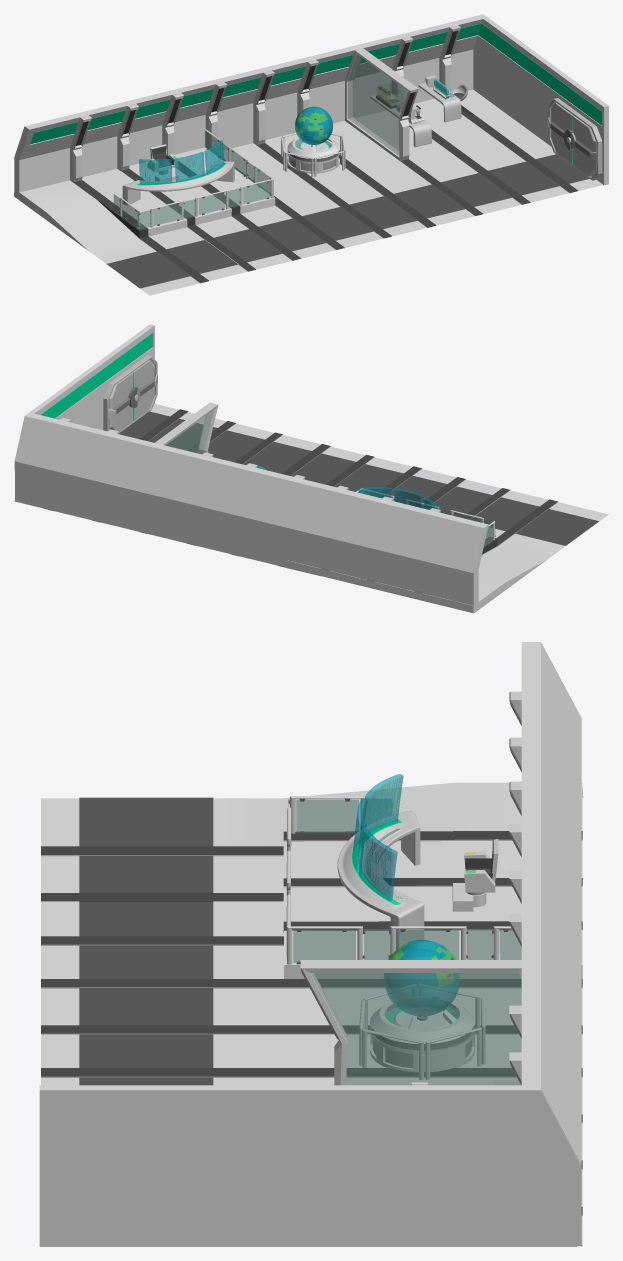
The model's file is TechHQ.fbx.
The picture shows the model from 3 angles, top to bottom: view 1: azimuth 30°, elevation 25°; view 2: azimuth 150°, elevation 25°; view 3: azimuth 270°, elevation 25°; orthographic projection. The views are drawn at different scales.
Visible parts, largest first — view 1: Boden2, HintereWand, RechteWand, Säule5, WandLampe, pCube2, RechteLäuchte, HauptMannTisch, WeltProjektionsBase, ZaunInnenGlas (×3), WeltProjektion, Säule (+13 smaller); view 2: HintereWand, Boden2, RechteWand, pCube2, Säule5, RechteLäuchte, HauptMannMonitor2; view 3: Boden2, RechteWand, HintereWand, Säule5, ZaunInnenGlas (×5), HauptMannTisch, WeltProjektionsBase, WeltProjektion, HauptMannMonitor3, HauptMannMonitor, pCube7.
Part boxes in pixels (x1,y1,x2,y2): Boden2: (14,89,602,295); HintereWand: (14,14,487,195); RechteWand: (473,14,608,185); Säule5: (344,48,418,160); WandLampe: (30,23,481,144); pCube2: (547,98,602,180); RechteLäuchte: (478,24,602,125); HauptMannTisch: (122,161,234,205); WeltProjektionsBase: (287,137,339,173); ZaunInnenGlas (×3): (153,181,270,225); WeltProjektion: (295,106,332,144); Säule: (253,70,274,145); HintereWand: (15,412,488,612); Boden2: (14,403,608,613); RechteWand: (14,324,154,469); pCube2: (103,355,157,433); Säule5: (155,402,218,454); RechteLäuchte: (41,333,152,418); HauptMannMonitor2: (394,488,422,508); Boden2: (41,782,583,1246); RechteWand: (39,1085,580,1246); HintereWand: (521,642,581,1244); Säule5: (300,960,521,1085); ZaunInnenGlas (×5): (293,799,493,962); HauptMannTisch: (337,811,424,950); WeltProjektionsBase: (369,1001,474,1072); WeltProjektion: (384,939,460,1016); HauptMannMonitor3: (359,828,397,901); HauptMannMonitor: (363,774,403,834); pCube7: (464,839,498,892).
Bounding box in the file's own units: 95.82 × 15.99 × 49.1.
